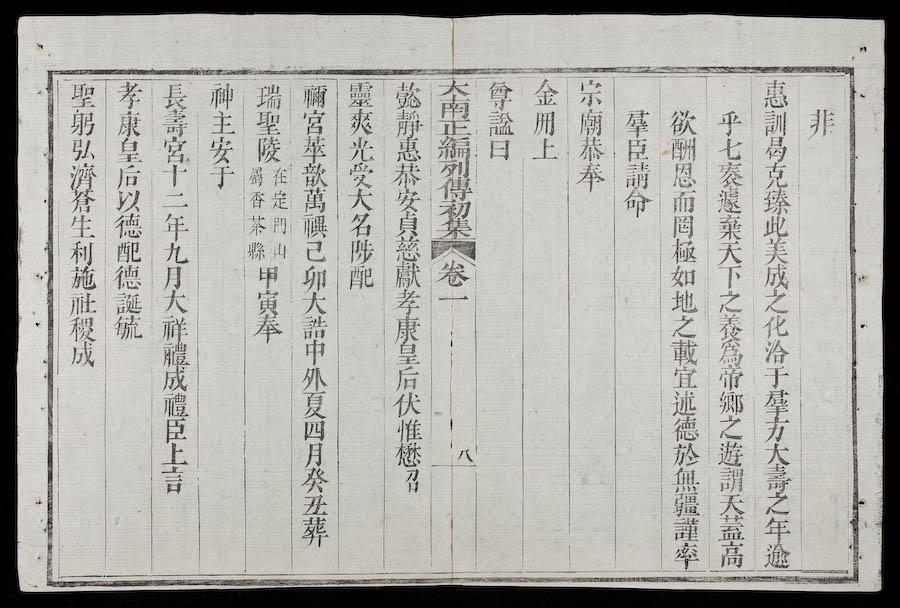c: (804, 105, 838, 139), (435, 259, 470, 289), (298, 516, 331, 547), (759, 78, 791, 109), (530, 77, 561, 108), (666, 107, 699, 136), (391, 80, 424, 109), (620, 189, 653, 218), (621, 106, 652, 136), (574, 79, 606, 108), (113, 80, 145, 109), (575, 163, 607, 192), (205, 81, 237, 110), (761, 541, 794, 569), (65, 108, 98, 136), (65, 80, 98, 108), (344, 80, 377, 108), (252, 82, 285, 110), (434, 137, 472, 161), (436, 177, 474, 201), (485, 80, 515, 110), (761, 388, 792, 417), (159, 212, 190, 241), (158, 467, 190, 495), (66, 161, 98, 189), (621, 162, 653, 190), (391, 315, 423, 343), (485, 110, 517, 138), (251, 315, 283, 343), (391, 262, 424, 289), (112, 212, 145, 239), (714, 515, 748, 541), (669, 542, 703, 568), (435, 218, 475, 240), (160, 81, 190, 110), (669, 415, 701, 442), (713, 187, 745, 214), (714, 161, 746, 188), (158, 315, 190, 342), (392, 110, 424, 137), (345, 109, 377, 136), (760, 189, 793, 215), (391, 391, 424, 417), (158, 342, 191, 368), (668, 338, 701, 364), (111, 315, 144, 341), (111, 264, 144, 290), (114, 110, 144, 138), (206, 136, 236, 164), (299, 391, 329, 419), (252, 136, 283, 163), (714, 214, 745, 241), (345, 136, 376, 163), (159, 136, 190, 163), (159, 109, 190, 136), (435, 99, 473, 121), (761, 465, 793, 491), (715, 542, 747, 568), (66, 342, 98, 368), (715, 466, 747, 492), (391, 289, 423, 315), (159, 392, 191, 418), (670, 517, 703, 542), (392, 441, 425, 466), (669, 441, 702, 466), (576, 109, 605, 137), (761, 162, 791, 189), (207, 109, 237, 136), (346, 238, 376, 265), (113, 137, 143, 164), (299, 467, 330, 493), (345, 163, 376, 189), (67, 265, 98, 291), (66, 316, 97, 342), (668, 238, 699, 264), (715, 440, 746, 466), (299, 83, 330, 109), (252, 110, 283, 136), (575, 136, 606, 162), (715, 364, 746, 390), (669, 389, 700, 415), (66, 213, 97, 239), (760, 238, 791, 264), (761, 515, 793, 540), (66, 291, 98, 316), (670, 467, 702, 492), (670, 492, 702, 517), (667, 137, 699, 162), (391, 163, 423, 188), (715, 108, 743, 136), (669, 162, 698, 189), (761, 416, 791, 442), (715, 339, 745, 365), (299, 365, 329, 391), (299, 135, 329, 161), (299, 109, 329, 135), (346, 265, 376, 291), (669, 313, 699, 339), (715, 314, 745, 340), (760, 110, 790, 136), (760, 314, 791, 339), (66, 136, 97, 161), (392, 237, 423, 262), (392, 188, 423, 213), (715, 390, 746, 415), (668, 288, 699, 313), (299, 214, 330, 239), (393, 417, 424, 442), (760, 339, 791, 364), (715, 415, 746, 440), (761, 264, 792, 289), (159, 368, 190, 393), (761, 442, 793, 466), (714, 241, 746, 265), (111, 291, 143, 315), (253, 289, 281, 316), (346, 212, 375, 238), (300, 265, 329, 291), (300, 162, 329, 188), (393, 212, 422, 238), (67, 188, 97, 213), (66, 239, 96, 264), (299, 315, 329, 340), (393, 137, 423, 162), (760, 136, 790, 161), (715, 136, 745, 161), (669, 365, 700, 389), (760, 290, 791, 314), (345, 188, 376, 212), (667, 264, 698, 288), (112, 240, 143, 264), (435, 78, 472, 98), (715, 493, 747, 516), (531, 110, 558, 137), (393, 366, 422, 391), (160, 442, 189, 467), (622, 137, 651, 162), (300, 188, 329, 213), (715, 289, 744, 314), (114, 164, 143, 189), (436, 200, 474, 219), (762, 492, 792, 516), (113, 189, 143, 213), (299, 291, 329, 315), (299, 340, 329, 364), (159, 290, 189, 314), (760, 364, 791, 387), (434, 120, 473, 138), (161, 417, 189, 442), (669, 190, 698, 214), (207, 165, 236, 189), (392, 342, 422, 365), (159, 241, 189, 264), (159, 164, 189, 187), (436, 160, 472, 179), (299, 494, 330, 516), (301, 441, 327, 467), (531, 138, 559, 162), (435, 291, 470, 310), (715, 266, 745, 288), (761, 215, 791, 237), (159, 189, 190, 210), (254, 264, 281, 288), (160, 265, 187, 289), (670, 214, 697, 238), (301, 240, 329, 263), (486, 138, 513, 161), (400, 468, 423, 493), (301, 419, 327, 441), (245, 214, 268, 237), (269, 189, 290, 211), (246, 165, 266, 188), (246, 240, 267, 261), (247, 189, 267, 210), (270, 166, 289, 188), (270, 215, 289, 236), (271, 241, 289, 260), (455, 446, 475, 463)
